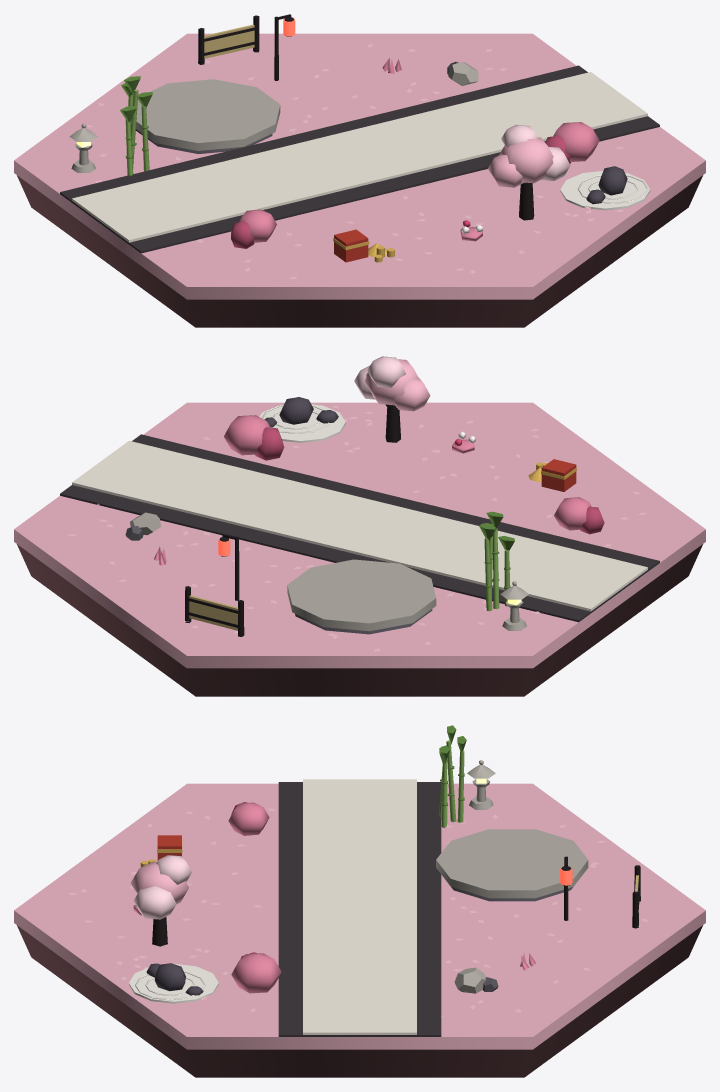
Rendered from tile_goldRoad.glb.
3 renders of one model, top to bottom at view 1: azimuth 30°, elevation 25°; view 2: azimuth 150°, elevation 25°; view 3: azimuth 270°, elevation 25°, orthographic.
Parts seen in each view (by area): view 1: ground, road, ground_soil, tower_slot_1_plate, deco_tree_3, deco_karesansui_gravel, deco_bamboo, deco_karesansui, deco_bush_0_a, deco_petals, deco_takegaki_panel, road_verge_hub (+6 smaller); view 2: ground, road, ground_soil, tower_slot_1_plate, deco_tree_3, deco_bamboo, deco_karesansui_gravel, deco_karesansui, deco_bush_0_a, deco_petals, road_surface_hub, deco_takegaki_panel (+4 smaller); view 3: ground, road, ground_soil, tower_slot_1_plate, deco_tree_3, road_surface_hub, deco_karesansui_gravel, deco_bamboo, deco_bush_0_a, deco_karesansui, deco_petals, deco_bush_5_a (+1 smaller).
Boxes of the visible parts, x1,y1,x2,y2 form: ground: (14, 33, 705, 299); road: (60, 65, 659, 253); ground_soil: (17, 175, 702, 327); tower_slot_1_plate: (136, 79, 280, 150); deco_tree_3: (488, 124, 570, 187); deco_karesansui_gravel: (560, 170, 650, 210); deco_bamboo: (120, 76, 152, 175); deco_karesansui: (578, 166, 648, 204); deco_bush_0_a: (553, 122, 599, 161); deco_petals: (86, 43, 624, 278); deco_takegaki_panel: (204, 24, 254, 58); road_verge_hub: (286, 124, 438, 192); ground: (14, 402, 705, 668); road: (60, 434, 659, 622); ground_soil: (17, 544, 702, 696); tower_slot_1_plate: (287, 559, 436, 631); deco_tree_3: (354, 356, 430, 411); deco_bamboo: (479, 511, 514, 611); deco_karesansui_gravel: (259, 404, 345, 442); deco_karesansui: (262, 397, 338, 433); deco_bush_0_a: (224, 415, 270, 455); deco_petals: (67, 405, 646, 651); road_surface_hub: (311, 501, 416, 548); deco_takegaki_panel: (189, 595, 238, 630); ground: (14, 783, 705, 1049); road: (278, 779, 441, 1036); ground_soil: (17, 925, 702, 1077); tower_slot_1_plate: (436, 829, 588, 898); deco_tree_3: (131, 855, 191, 919); road_surface_hub: (303, 882, 416, 929); deco_karesansui_gravel: (129, 964, 218, 1003); deco_bamboo: (439, 725, 466, 827); deco_bush_0_a: (231, 953, 281, 993); deco_karesansui: (135, 963, 205, 1000); deco_petals: (69, 808, 647, 1016); deco_bush_5_a: (228, 802, 269, 835).
Size of the model in its own units: 1.73 by 0.445 by 2.
